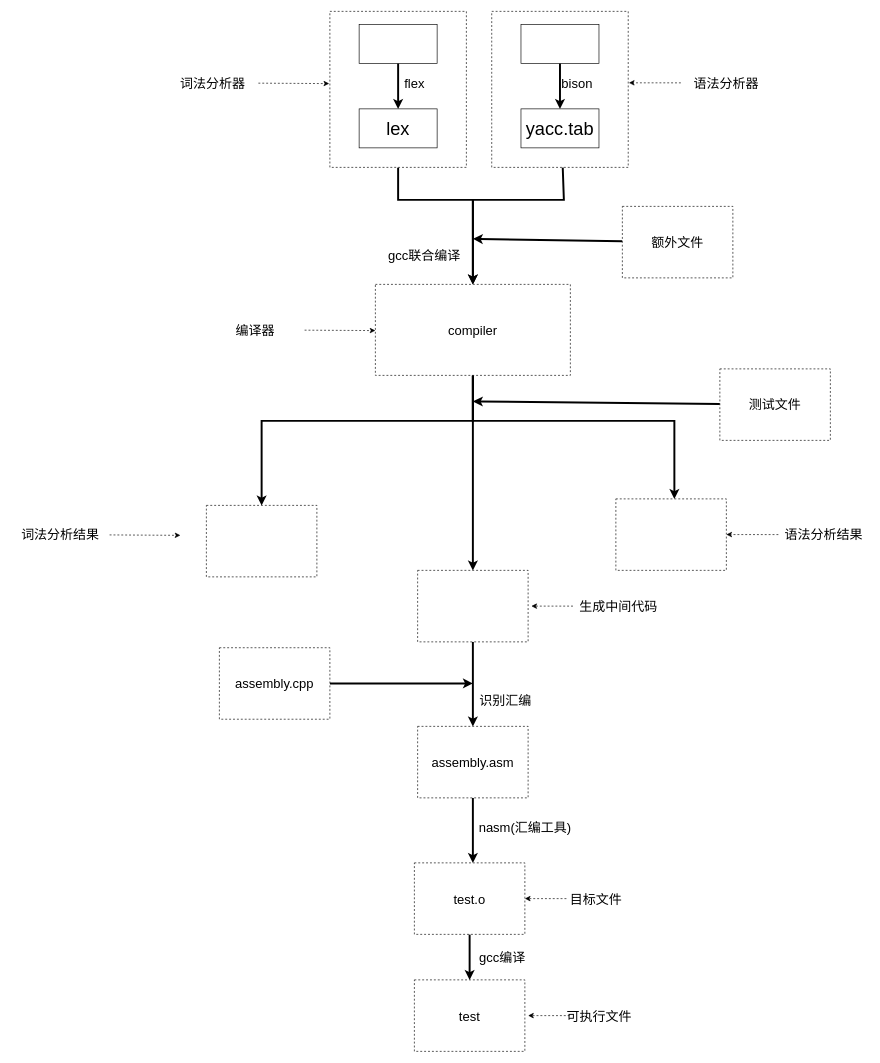
The diagram is 880 pixels wide and 1063 high, and some of its shapes have lost their labels. Here are the shapes that lost their labels. From the top down, the centre of each, then its label:
At point 397,43: "lex.l".
At point 559,43: "yacc.y".
At point 261,541: "Lexical".
At point 670,534: "Grammatical".
At point 472,606: "Innercode".
